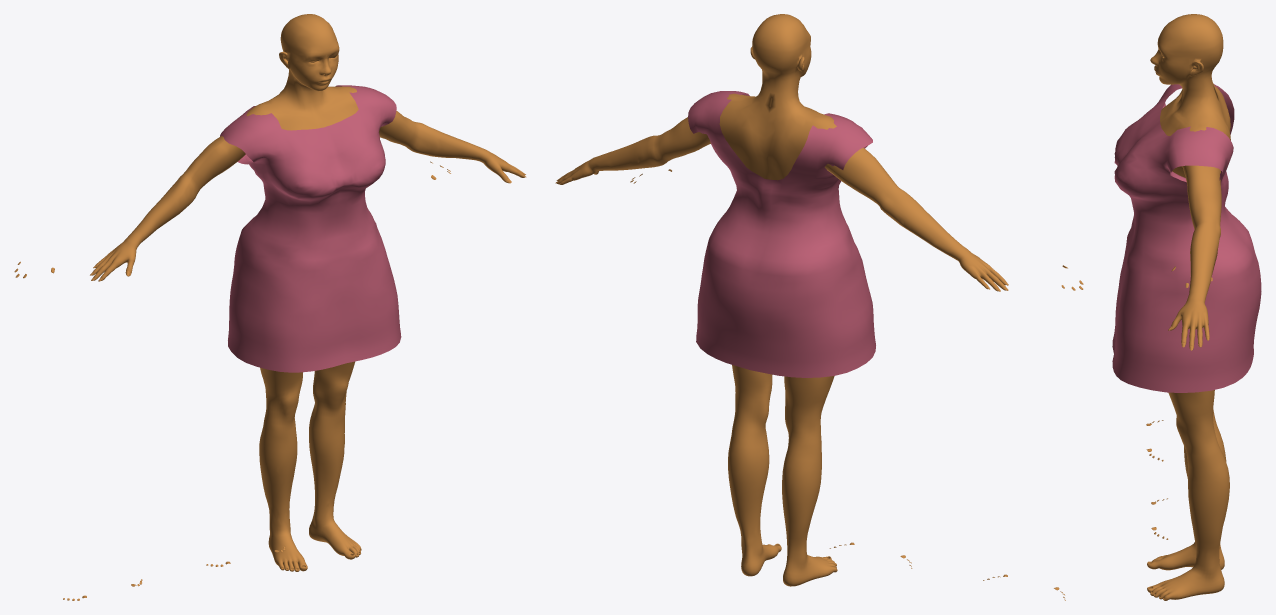
Rendered from dress7.glb.
The picture shows the model from 3 angles, left to right: view 1: azimuth 30°, elevation 25°; view 2: azimuth 150°, elevation 25°; view 3: azimuth 270°, elevation 25°; orthographic projection. The views are drawn at different scales.
Parts seen in each view (by area): view 1: Jennifer.F_Dress_01, Body.003; view 2: Jennifer.F_Dress_01, Body.003; view 3: Jennifer.F_Dress_01, Body.003.
Part boxes in pixels (<box>): Jennifer.F_Dress_01: <box>220,85,401,372</box>; Body.003: <box>92,14,525,571</box>; Jennifer.F_Dress_01: <box>688,91,875,377</box>; Body.003: <box>556,14,1005,586</box>; Jennifer.F_Dress_01: <box>1112,84,1261,392</box>; Body.003: <box>1147,14,1230,600</box>.
Size of the model in its own units: 1.84 by 1.85 by 0.4422.
